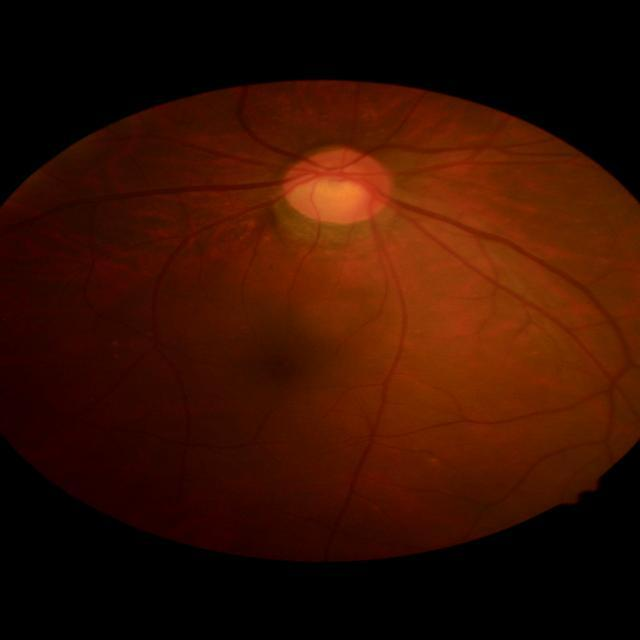cup: (300, 168, 370, 211)
disk: (282, 147, 394, 223)
